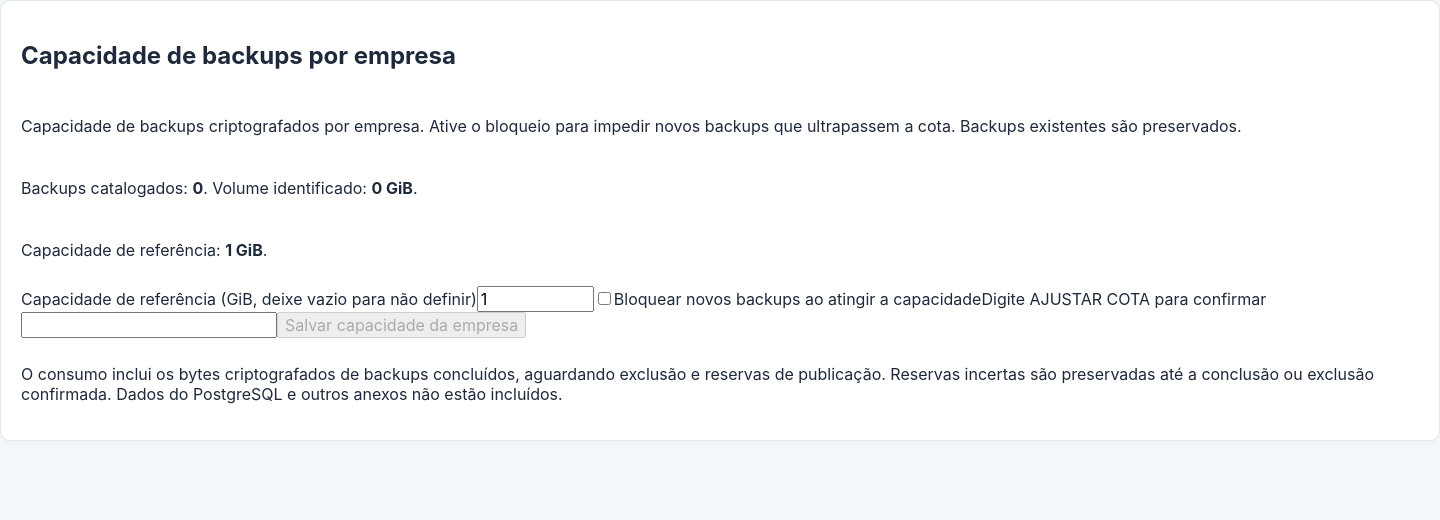
Test: requires an explicit switch and confirmation before enabling quota enforcement
The width and height of the screenshot is (1440, 520).
Click the checkbox labelled "Bloquear novos backups ao atingir a capacidade".
click(604, 298)  # box [598,292,611,305]
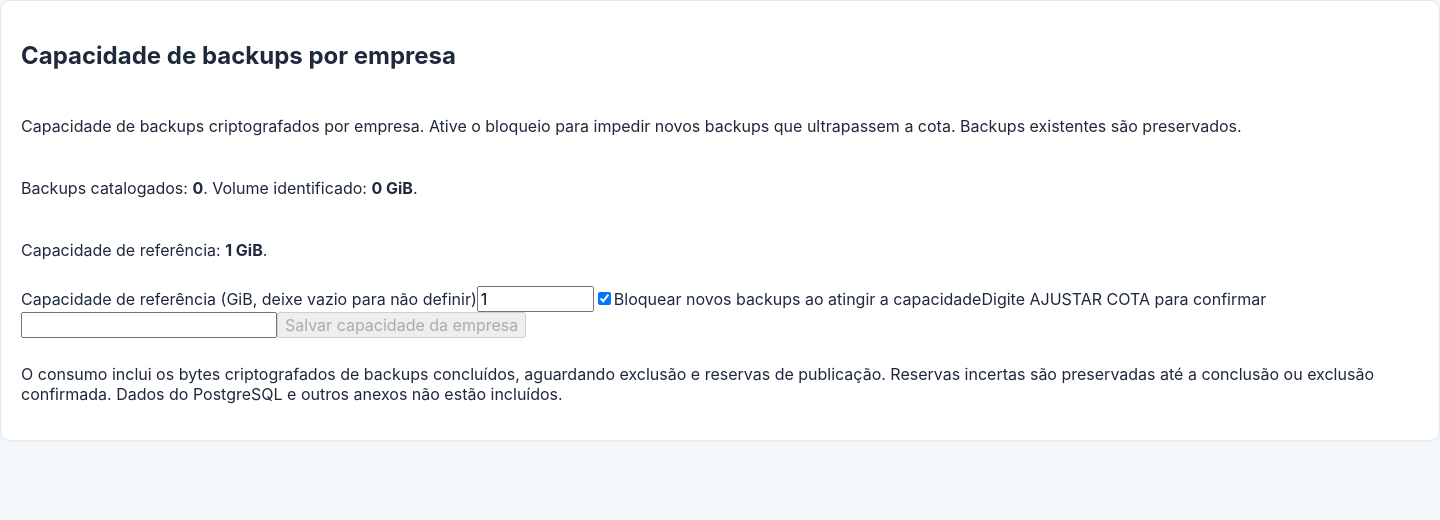
Expected: the button "Salvar capacidade da empresa" is disabled, [277,312,526,338]
Type "AJUSTAR COTA" into the field labelled "Digite AJUSTAR COTA para confirmar".
click(149, 325); type("AJUSTAR COTA")  # box [21,312,277,338]
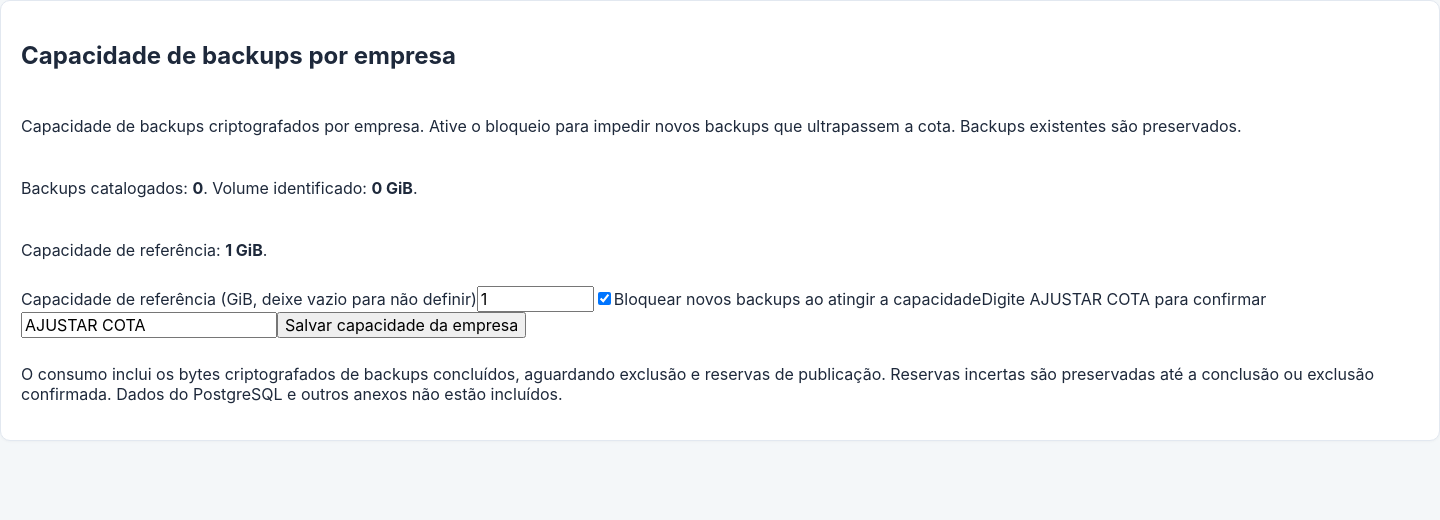
Click the button "Salvar capacidade da empresa".
click(402, 325)  # box [277,312,526,338]
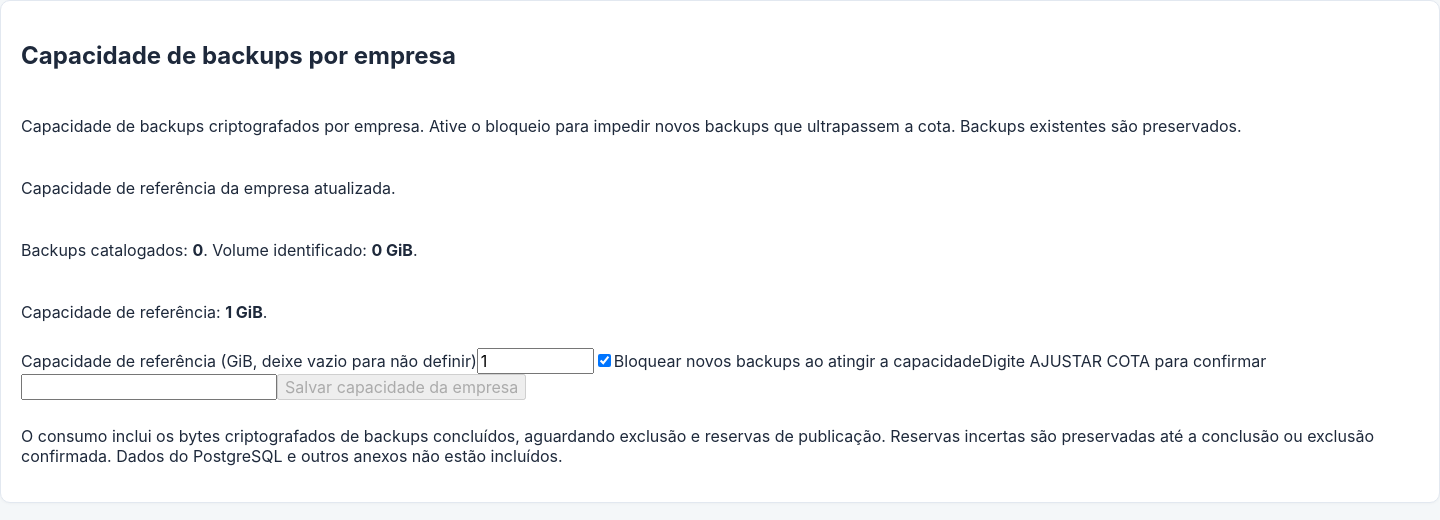
Now the checkbox labelled "Bloquear novos backups ao atingir a capacidade" is checked, box [598,354,611,367]
Now the text "Capacidade de referência da empresa atualizada." is shown, box [21,178,396,198]
